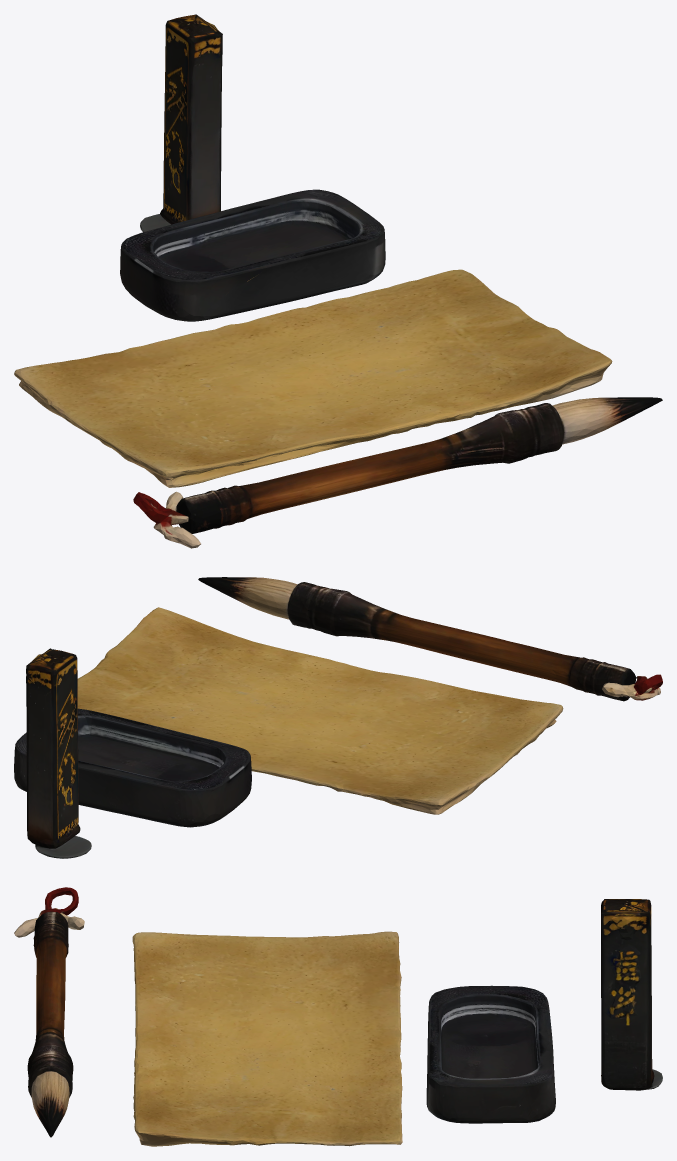
Rendered from calligraphy.glb.
3 renders of one model, top to bottom at view 1: azimuth 30°, elevation 25°; view 2: azimuth 150°, elevation 25°; view 3: azimuth 270°, elevation 25°, orthographic. The views are drawn at different scales.
Parts seen in each view (by area): view 1: tripo_node_cae25646-ee9c-4d8d-850e-485a5be239ac; view 2: tripo_node_cae25646-ee9c-4d8d-850e-485a5be239ac; view 3: tripo_node_cae25646-ee9c-4d8d-850e-485a5be239ac.
Part boxes in pixels (x1,y1,x2,y2): tripo_node_cae25646-ee9c-4d8d-850e-485a5be239ac: (14,14,662,548); tripo_node_cae25646-ee9c-4d8d-850e-485a5be239ac: (14,577,662,858); tripo_node_cae25646-ee9c-4d8d-850e-485a5be239ac: (14,887,662,1146).
Size of the model in its own units: 0.8421 by 0.3193 by 1.
1 material, 1 textured.
